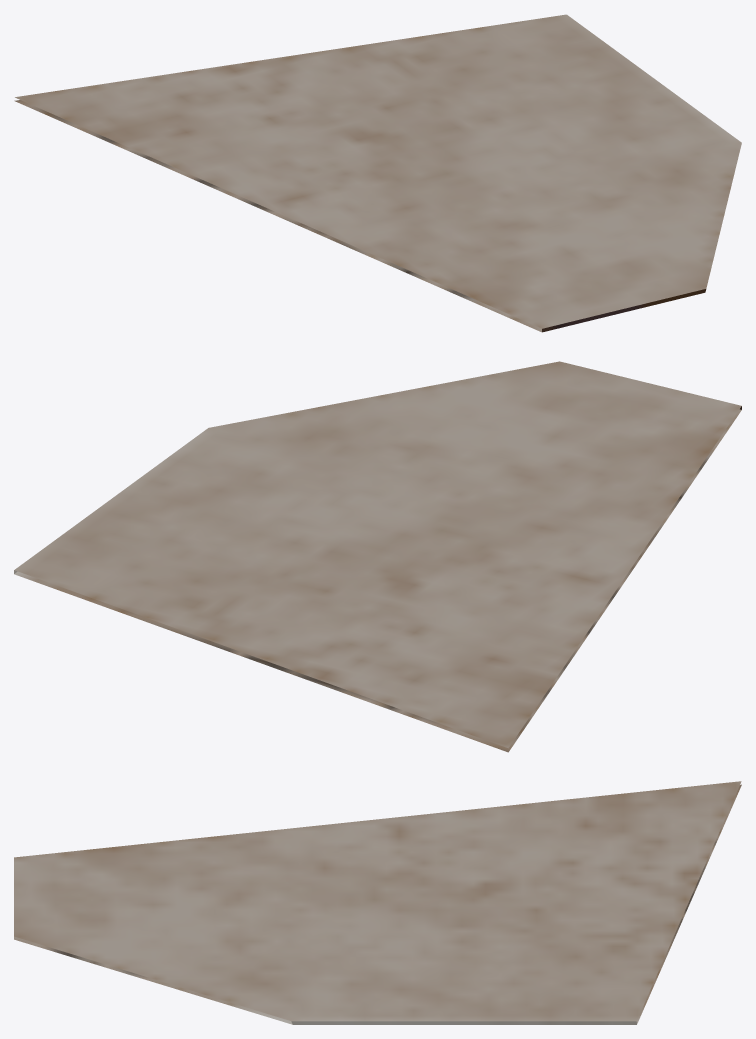
The model's file is SM_PaperDebris_03.fbx.
3 renders of one model, top to bottom at view 1: azimuth 30°, elevation 25°; view 2: azimuth 150°, elevation 25°; view 3: azimuth 270°, elevation 25°, orthographic. The views are drawn at different scales.
Parts seen in each view (by area): view 1: SM_PaperDebris_03; view 2: SM_PaperDebris_03; view 3: SM_PaperDebris_03.
Boxes of the visible parts, box(x1,y1,x2,y2) form: SM_PaperDebris_03: box(14, 14, 741, 332); SM_PaperDebris_03: box(14, 361, 741, 752); SM_PaperDebris_03: box(14, 781, 741, 1024).
Bounding box in the file's own units: 6.57 × 8.41 × 0.0459.
Materials: 1 (1 with a texture image).
